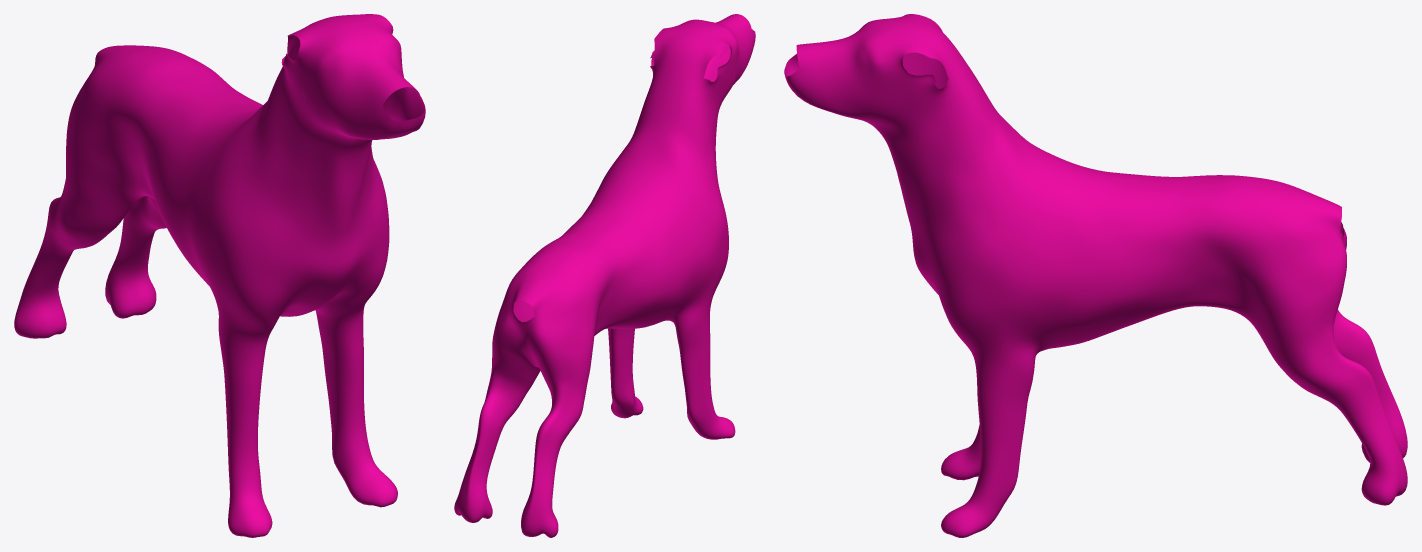
Rendered from body1.gltf.
3 views of the same model, side by side, from view 1: azimuth 30°, elevation 25°; view 2: azimuth 150°, elevation 25°; view 3: azimuth 270°, elevation 25° (orthographic). The views are drawn at different scales.
Visible parts, largest first — view 1: body; view 2: body; view 3: body.
Boxes of the visible parts, x1,y1,x2,y2 form: body: (14, 14, 425, 537); body: (454, 14, 755, 537); body: (784, 14, 1407, 537).
Size of the model in its own units: 1.54 by 4.58 by 5.43.
